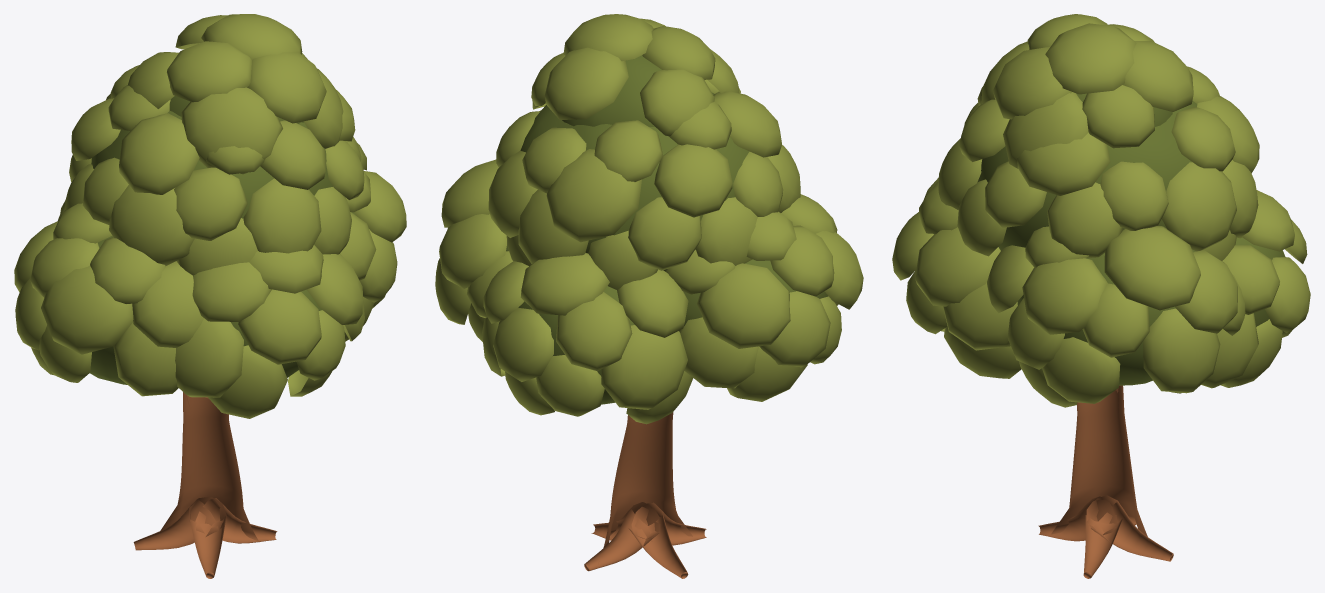
Rendered from HEARTH_TREE_V2.glb.
The picture shows the model from 3 angles, left to right: view 1: azimuth 30°, elevation 25°; view 2: azimuth 150°, elevation 25°; view 3: azimuth 270°, elevation 25°; orthographic projection. The views are drawn at different scales.
Parts seen in each view (by area): view 1: crown_leaves, trunk, crown_core; view 2: crown_leaves, trunk, crown_core; view 3: crown_leaves, trunk, crown_core.
Part boxes in pixels (left/top/right/bottom): crown_leaves: left=14, top=14, right=406, bottom=418; trunk: left=133, top=392, right=277, bottom=578; crown_core: left=90, top=96, right=357, bottom=384; crown_leaves: left=435, top=14, right=863, bottom=424; trunk: left=584, top=412, right=706, bottom=578; crown_core: left=506, top=55, right=828, bottom=404; crown_leaves: left=892, top=14, right=1310, bottom=407; trunk: left=1038, top=385, right=1173, bottom=578; crown_core: left=977, top=93, right=1285, bottom=385.
Size of the model in its own units: 17.71 by 23.83 by 16.88.
